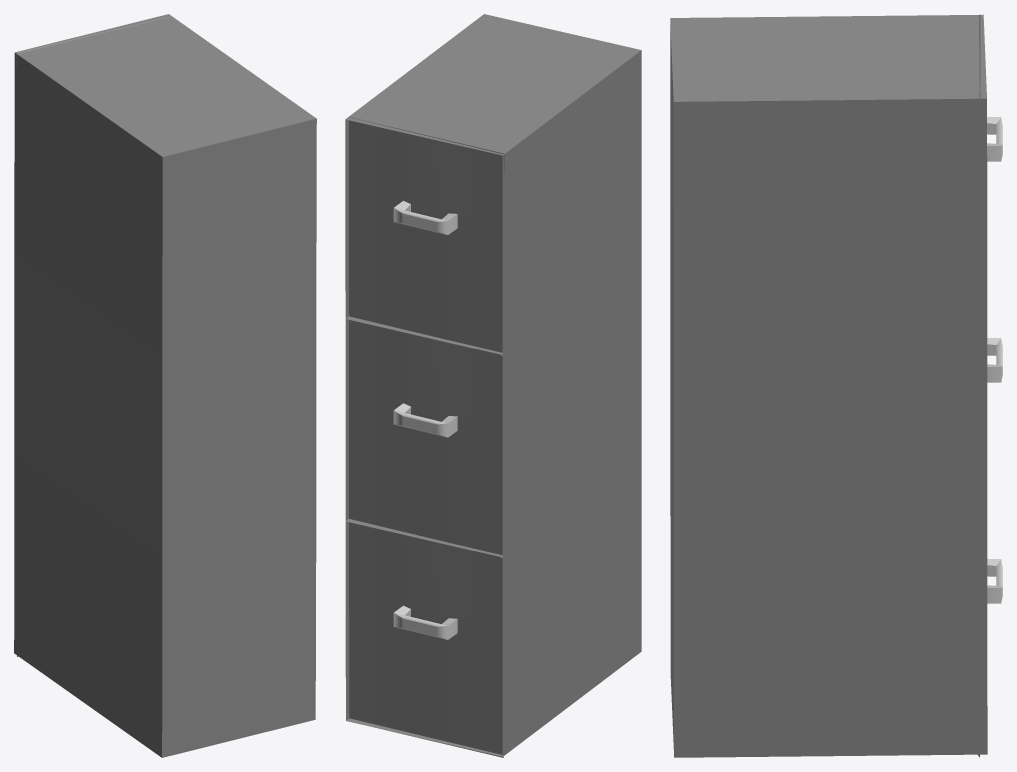
Rendered from BigFileCabinet.fbx.
3 views of the same model, side by side, from view 1: azimuth 30°, elevation 25°; view 2: azimuth 150°, elevation 25°; view 3: azimuth 270°, elevation 25° (orthographic). The views are drawn at different scales.
Parts seen in each view (by area): view 1: BigFileCabinet; view 2: BigFileCabinet, InsideCabinet2, InsideCabinet3, InsideCabinet1; view 3: BigFileCabinet, InsideCabinet3, InsideCabinet1, InsideCabinet2.
Boxes of the visible parts, left/top/right/bottom form: BigFileCabinet: left=14, top=14, right=316, bottom=757; BigFileCabinet: left=345, top=14, right=641, bottom=756; InsideCabinet2: left=349, top=320, right=502, bottom=555; InsideCabinet3: left=349, top=117, right=504, bottom=352; InsideCabinet1: left=349, top=522, right=503, bottom=757; BigFileCabinet: left=670, top=14, right=987, bottom=757; InsideCabinet3: left=979, top=14, right=1002, bottom=161; InsideCabinet1: left=978, top=558, right=1002, bottom=757; InsideCabinet2: left=987, top=338, right=1002, bottom=382.
Bounding box in the file's own units: 0.6464 × 2.33 × 1.06.
2 materials, 2 textured.
